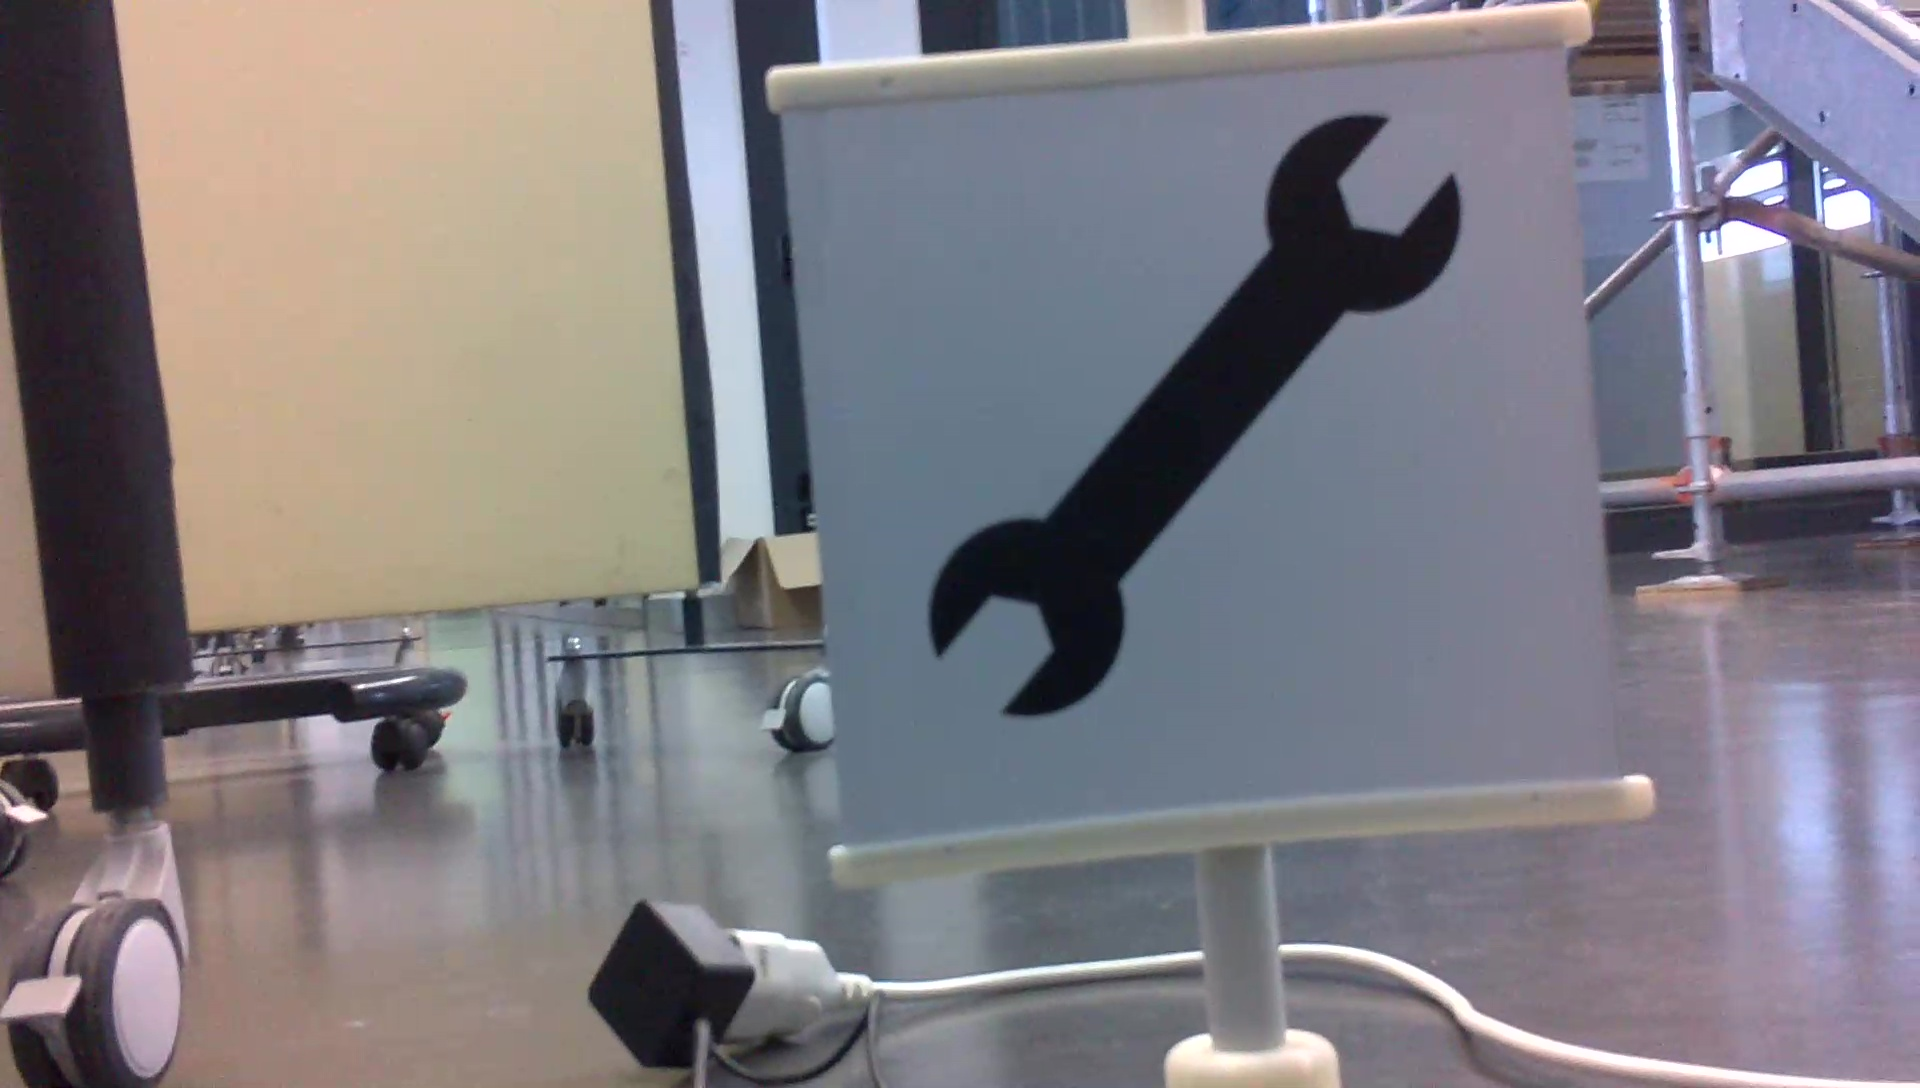wrench: (923, 103, 1472, 721)
